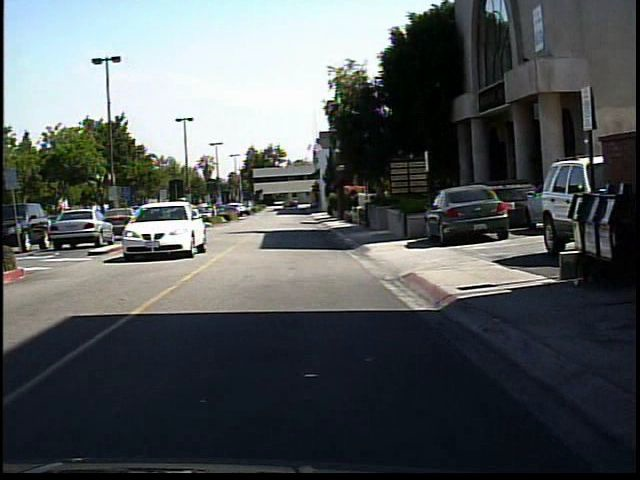person: (171, 192, 196, 249)
